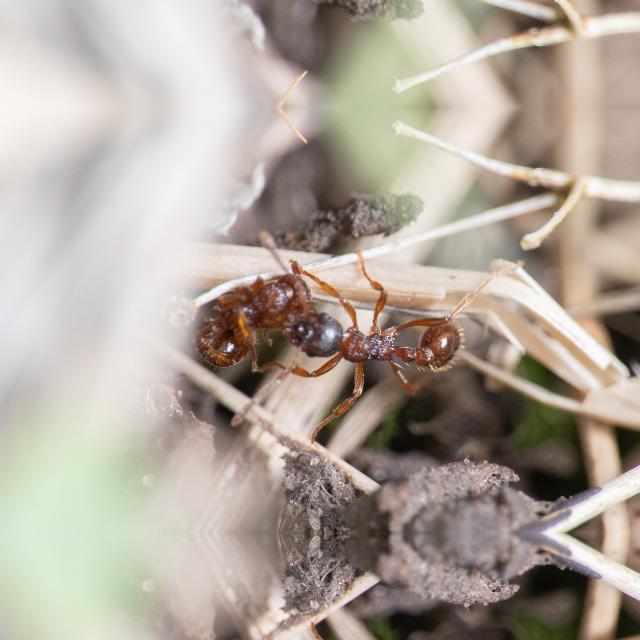Myrmica: (228, 279, 502, 396), (182, 241, 338, 375)
